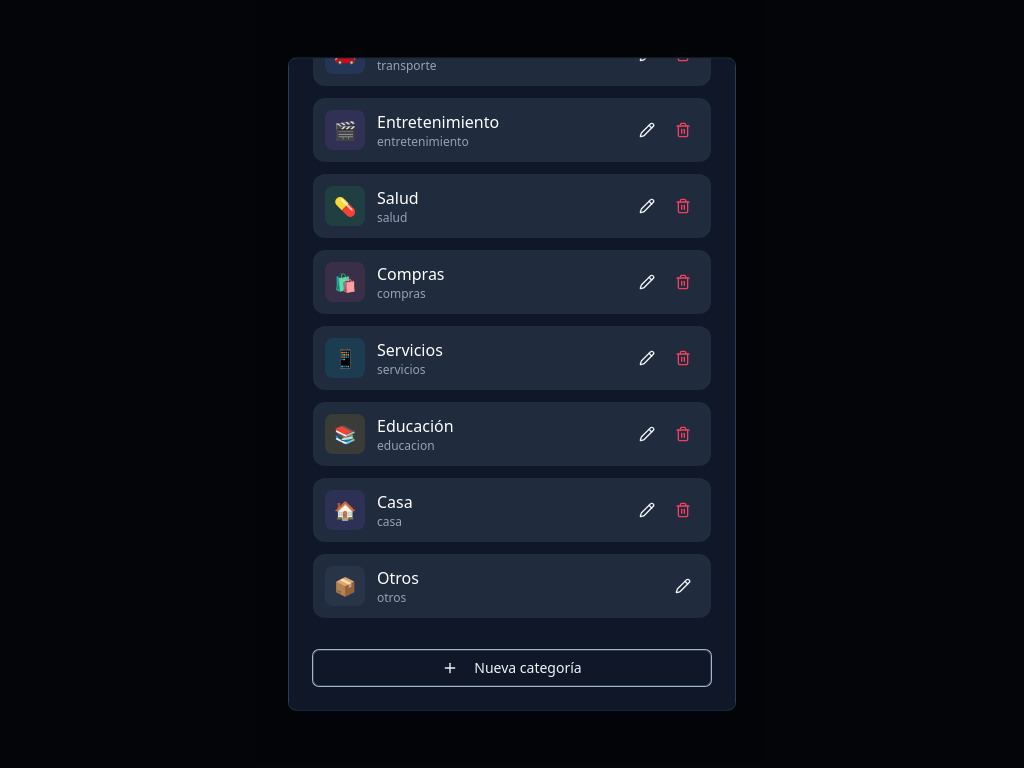
Test: CategoryManager › hides form when Cancelar is clicked
(page scrolled)
Click the button "Nueva categoría" at {"x": 512, "y": 668}, box [313,650,711,686]
(page scrolled)
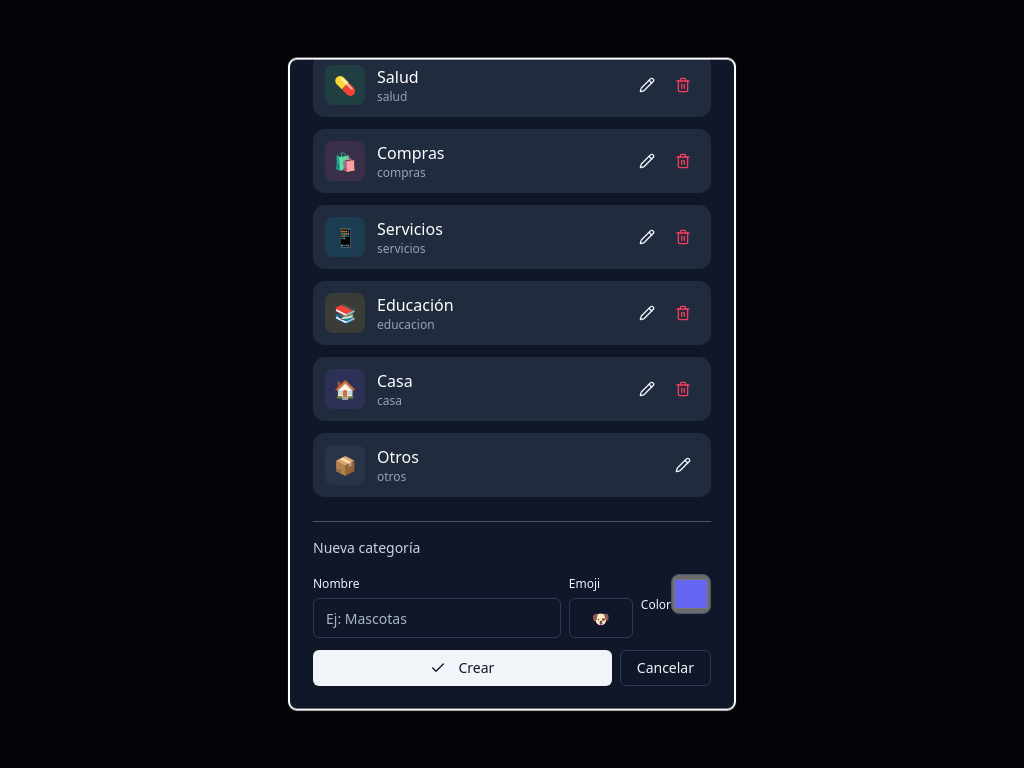
Expected: the field labelled "Nombre" is shown, [313,598,561,638]
Click the button "Cancelar" at {"x": 665, "y": 668}, box [620,650,711,686]
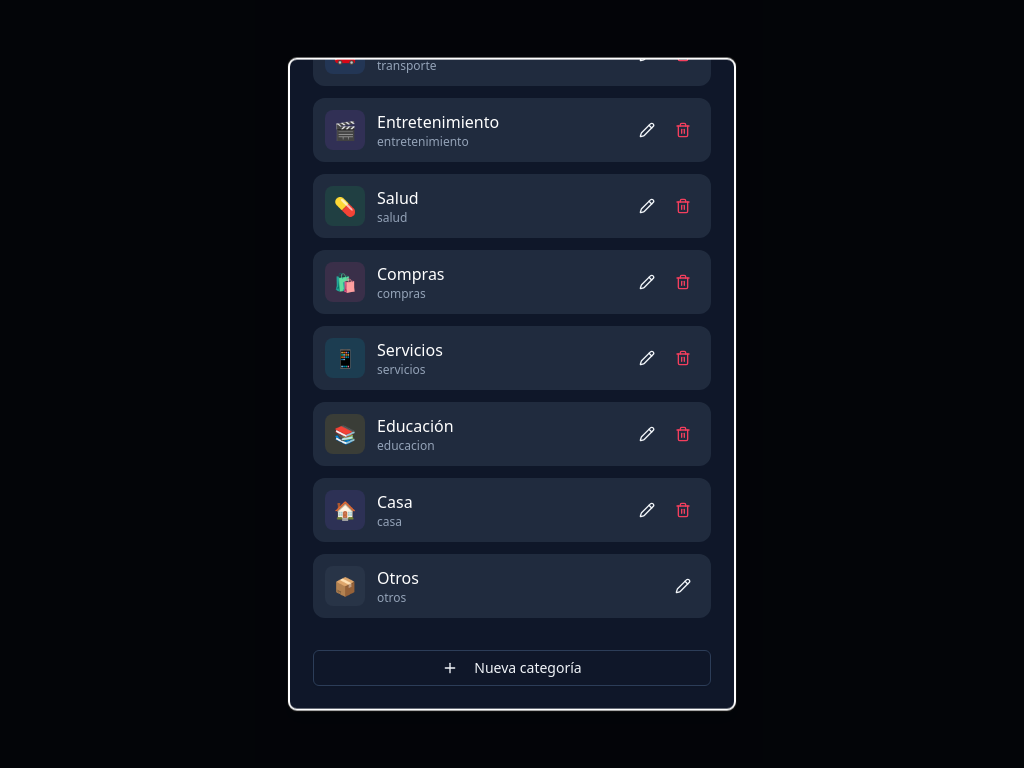
Expected: the label labelled "Nombre" is gone
